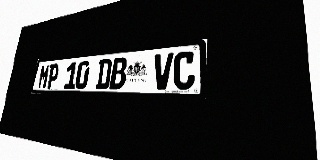0: (75, 60, 90, 89)
1: (64, 61, 78, 89)
B: (109, 57, 128, 89)
C: (173, 51, 195, 90)
D: (95, 58, 113, 89)
M: (37, 64, 50, 89)
P: (46, 63, 60, 89)
V: (152, 53, 174, 89)
